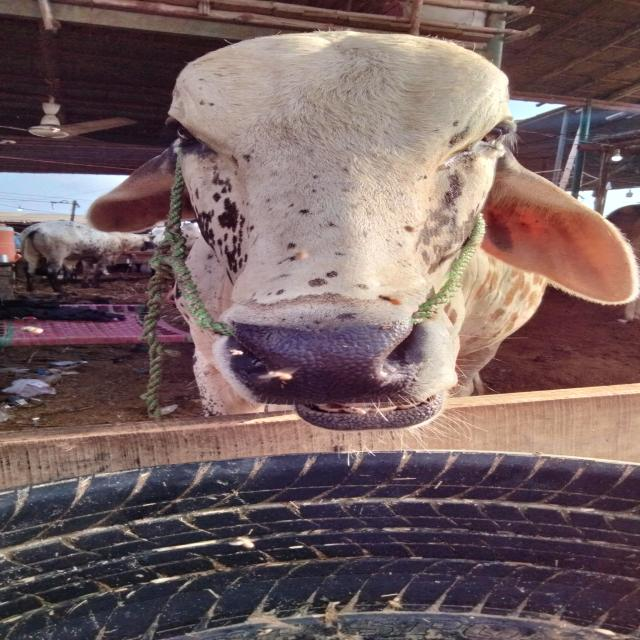muzzles: (210, 303, 442, 414)
